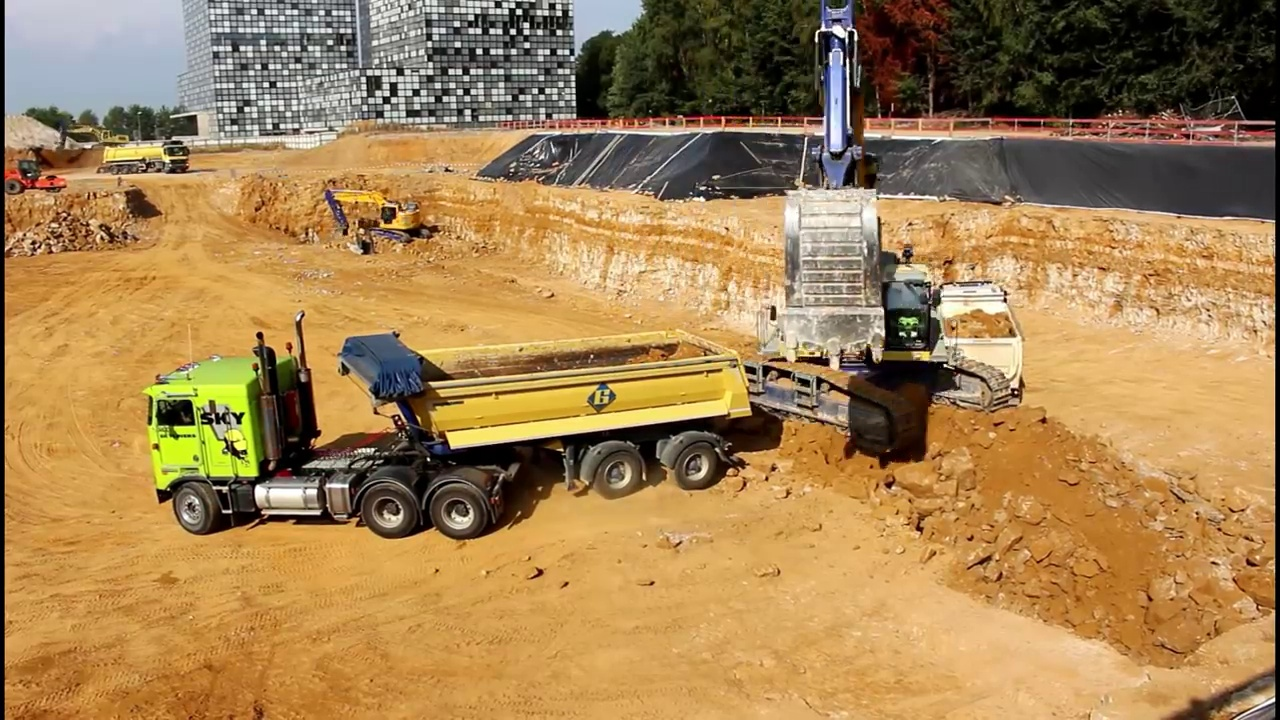compactor: (2, 159, 73, 199)
excavator: (712, 2, 1012, 457), (319, 175, 439, 259), (53, 121, 133, 157)
truck: (137, 306, 761, 547), (916, 267, 1037, 423), (101, 138, 195, 181)
